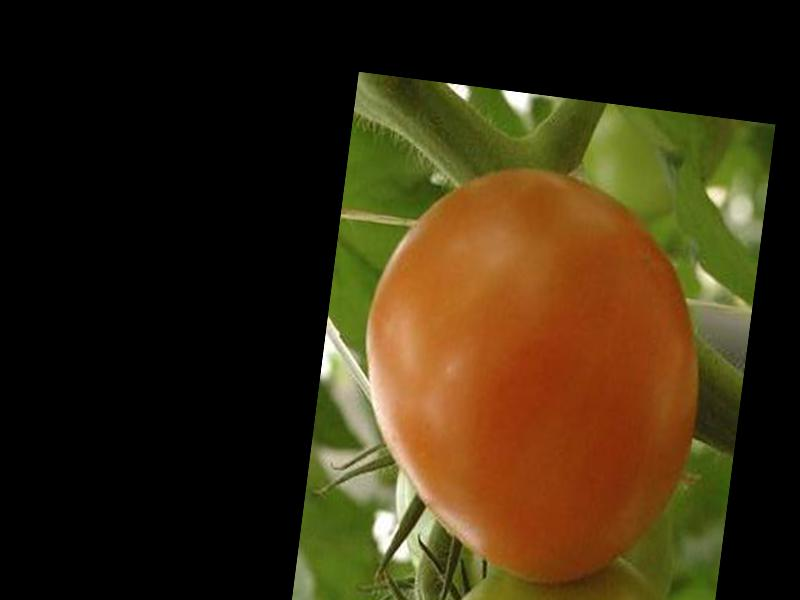Tomato: (336, 150, 723, 597)
